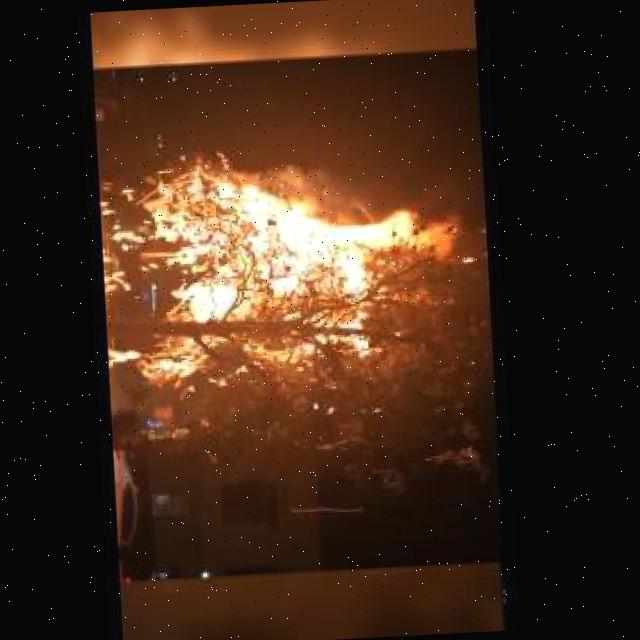fire: (105, 146, 462, 418)
